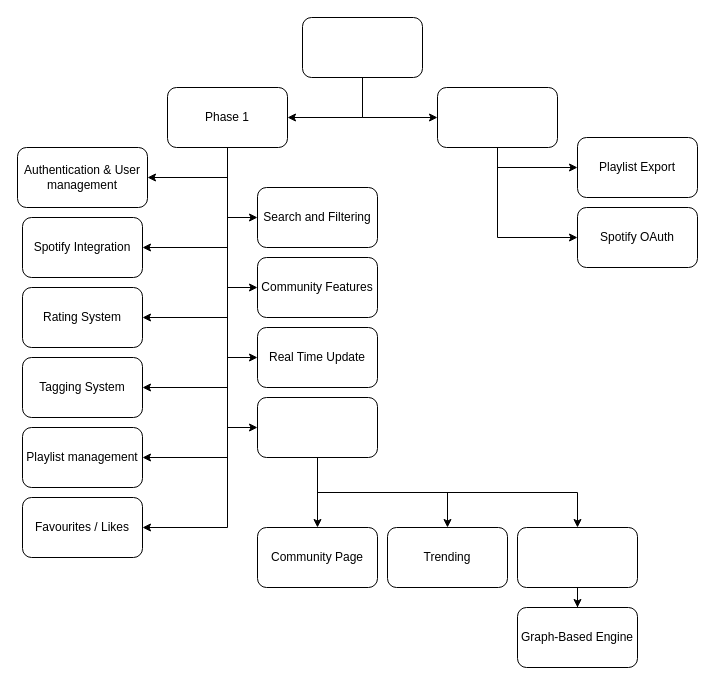
The diagram is 715 pixels wide and 685 high, and some of its shapes have lost their labels. Here are the shapes that lost their labels. From the top down, the centre of each, then its label:
the point at 362,47: Spotify Music Explorer
the point at 497,117: Phase 2
the point at 317,427: Discovery / Recommendation
the point at 577,557: For you
